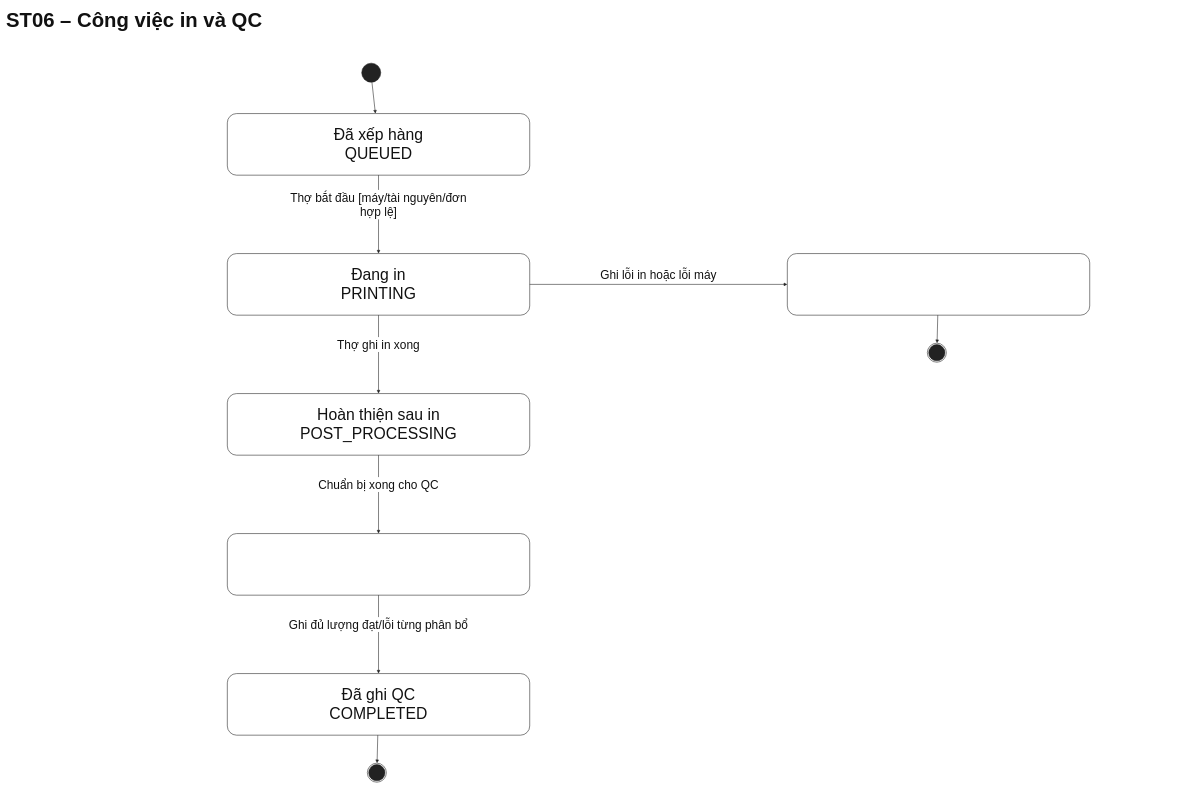
Image size: 1182x789. Some labels were removed from this diagram. The shapes that lost their labels are listed below. From the top down, each one's box as (x1, y1, x2, y2) in pixels, then its label:
(787, 253, 1090, 315): Mẻ in thất bại FAILED
(227, 533, 530, 595): Chờ kiểm chất lượng QC_PENDING
